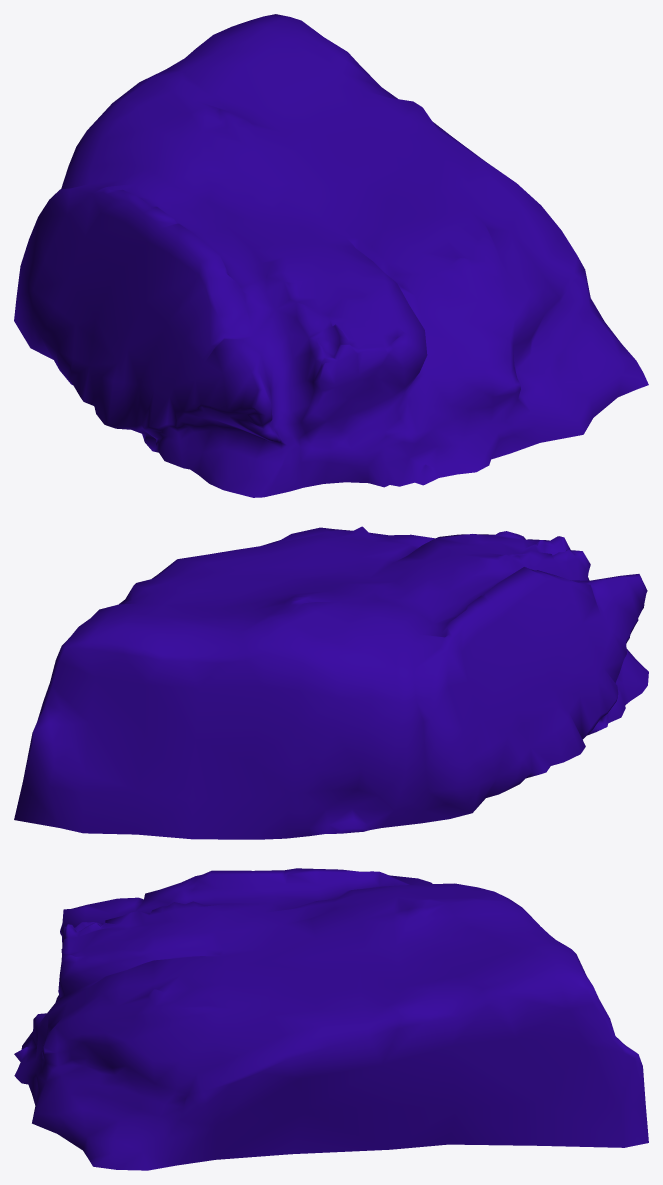
File: MSH_Rocks_Boulder_11.FBX
The picture shows the model from 3 angles, top to bottom: view 1: azimuth 30°, elevation 25°; view 2: azimuth 150°, elevation 25°; view 3: azimuth 270°, elevation 25°; orthographic projection. The views are drawn at different scales.
Visible parts, largest first — view 1: MESH_LOD0; view 2: MESH_LOD0; view 3: MESH_LOD0.
Part boxes in pixels (x1,y1,x2,y2): MESH_LOD0: (14,14,648,497); MESH_LOD0: (14,526,648,839); MESH_LOD0: (14,868,648,1170).
Size of what is drawn, in the model's own units: 72.21 by 29.5 by 102.
